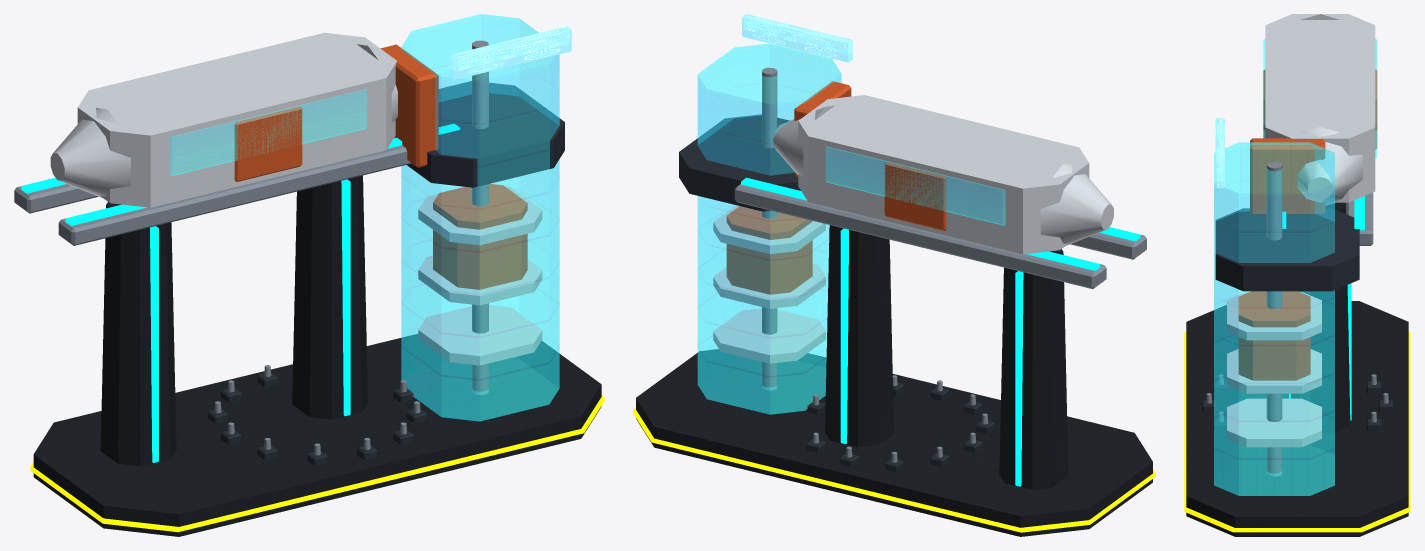
Rendered from prop_01_winner.glb.
The picture shows the model from 3 angles, left to right: view 1: azimuth 30°, elevation 25°; view 2: azimuth 150°, elevation 25°; view 3: azimuth 270°, elevation 25°; orthographic projection. The views are drawn at different scales.
Parts seen in each view (by area): view 1: Prop01_C02_gunmetal, Prop01_C02_glass_cyan, Prop01_C02_aero_white, Prop01_C02_accent_orange, Prop01_C02_carbon_slate, Prop01_C02_steel_machined, Prop01_C02_led_cyan, Prop01_C02_led_amber, Prop01_C02_marquee; view 2: Prop01_C02_gunmetal, Prop01_C02_glass_cyan, Prop01_C02_aero_white, Prop01_C02_steel_machined, Prop01_C02_accent_orange, Prop01_C02_carbon_slate, Prop01_C02_led_cyan, Prop01_C02_led_amber, Prop01_C02_marquee; view 3: Prop01_C02_glass_cyan, Prop01_C02_gunmetal, Prop01_C02_aero_white, Prop01_C02_carbon_slate, Prop01_C02_accent_orange, Prop01_C02_steel_machined, Prop01_C02_led_amber, Prop01_C02_led_cyan, Prop01_C02_marquee.
Part boxes in pixels (x1,y1,x2,y2): Prop01_C02_gunmetal: (33,175,601,536); Prop01_C02_glass_cyan: (170,14,559,421); Prop01_C02_aero_white: (50,32,542,365); Prop01_C02_accent_orange: (234,44,527,289); Prop01_C02_carbon_slate: (207,81,564,465); Prop01_C02_steel_machined: (14,40,488,455); Prop01_C02_led_cyan: (21,123,460,462); Prop01_C02_led_amber: (30,395,604,532); Prop01_C02_marquee: (450,26,571,79); Prop01_C02_gunmetal: (636,225,1152,536); Prop01_C02_glass_cyan: (697,43,1005,414); Prop01_C02_aero_white: (713,95,1113,363); Prop01_C02_steel_machined: (734,67,1146,462); Prop01_C02_accent_orange: (726,81,946,294); Prop01_C02_carbon_slate: (679,114,994,471); Prop01_C02_led_cyan: (741,177,1140,486); Prop01_C02_led_amber: (633,408,1155,532); Prop01_C02_marquee: (742,14,852,62); Prop01_C02_glass_cyan: (1214,39,1377,495); Prop01_C02_gunmetal: (1186,202,1408,536); Prop01_C02_aero_white: (1227,14,1375,447); Prop01_C02_carbon_slate: (1202,208,1392,448); Prop01_C02_accent_orange: (1238,69,1377,380); Prop01_C02_steel_machined: (1206,161,1388,476); Prop01_C02_led_amber: (1184,331,1410,532); Prop01_C02_led_cyan: (1282,196,1364,420); Prop01_C02_marquee: (1215,118,1224,188).
Bounding box in the file's own units: 8.03 × 5.92 × 3.46.
9 materials, 9 textured.
